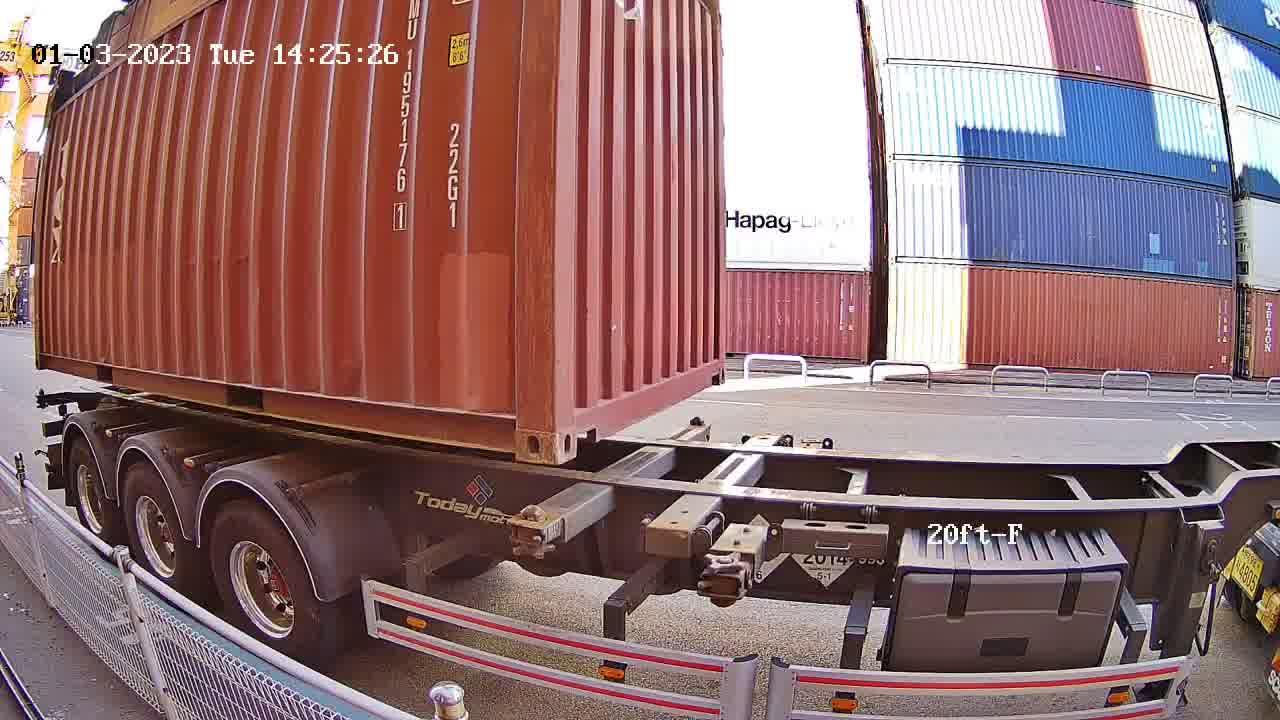Chassis: (511, 422, 710, 549)
Cone: (506, 503, 553, 558)
Hole_L: (553, 386, 609, 467)
Hole_R: (475, 391, 557, 468), (704, 346, 727, 387)
Tire: (211, 507, 310, 659), (124, 470, 190, 597), (71, 439, 117, 549)
